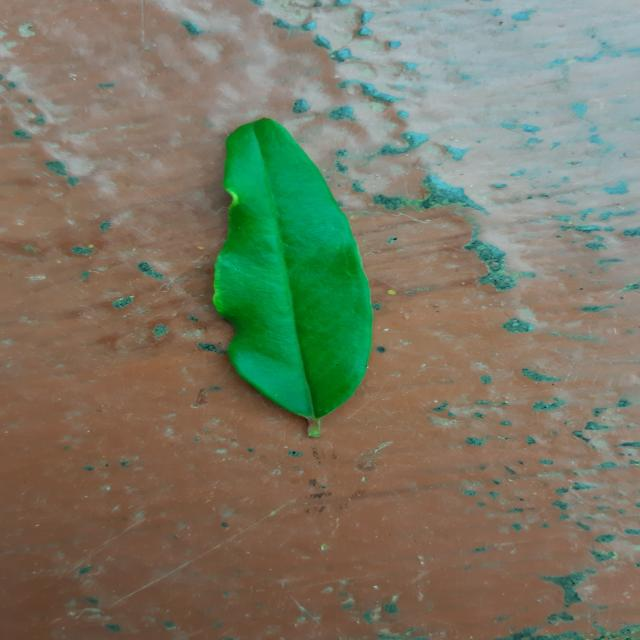pumpkin: (213, 119, 373, 436)
